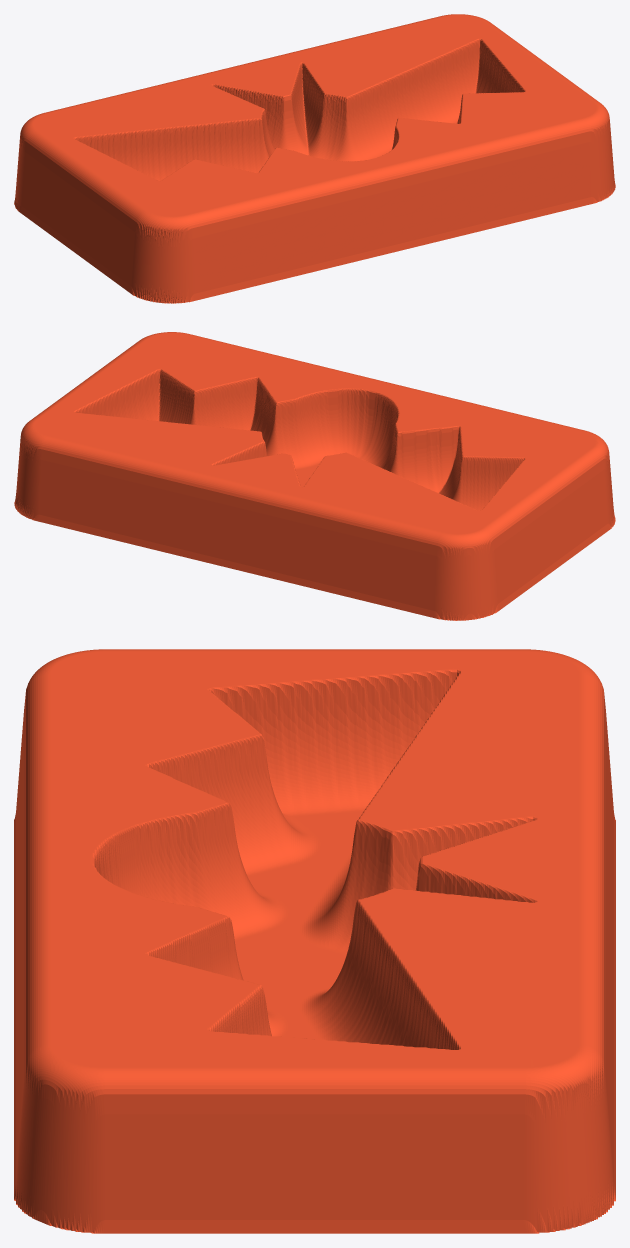
File: mold.glb
3 views of the same model, one above another, from view 1: azimuth 30°, elevation 25°; view 2: azimuth 150°, elevation 25°; view 3: azimuth 270°, elevation 25° (orthographic). The views are drawn at different scales.
Visible parts, largest first — view 1: geometry_0; view 2: geometry_0; view 3: geometry_0.
Boxes of the visible parts, x1,y1,x2,y2 form: geometry_0: (14,14,615,303); geometry_0: (14,332,615,620); geometry_0: (14,649,615,1233).
Bounding box in the file's own units: 0.105 × 0.0165 × 0.0598.
